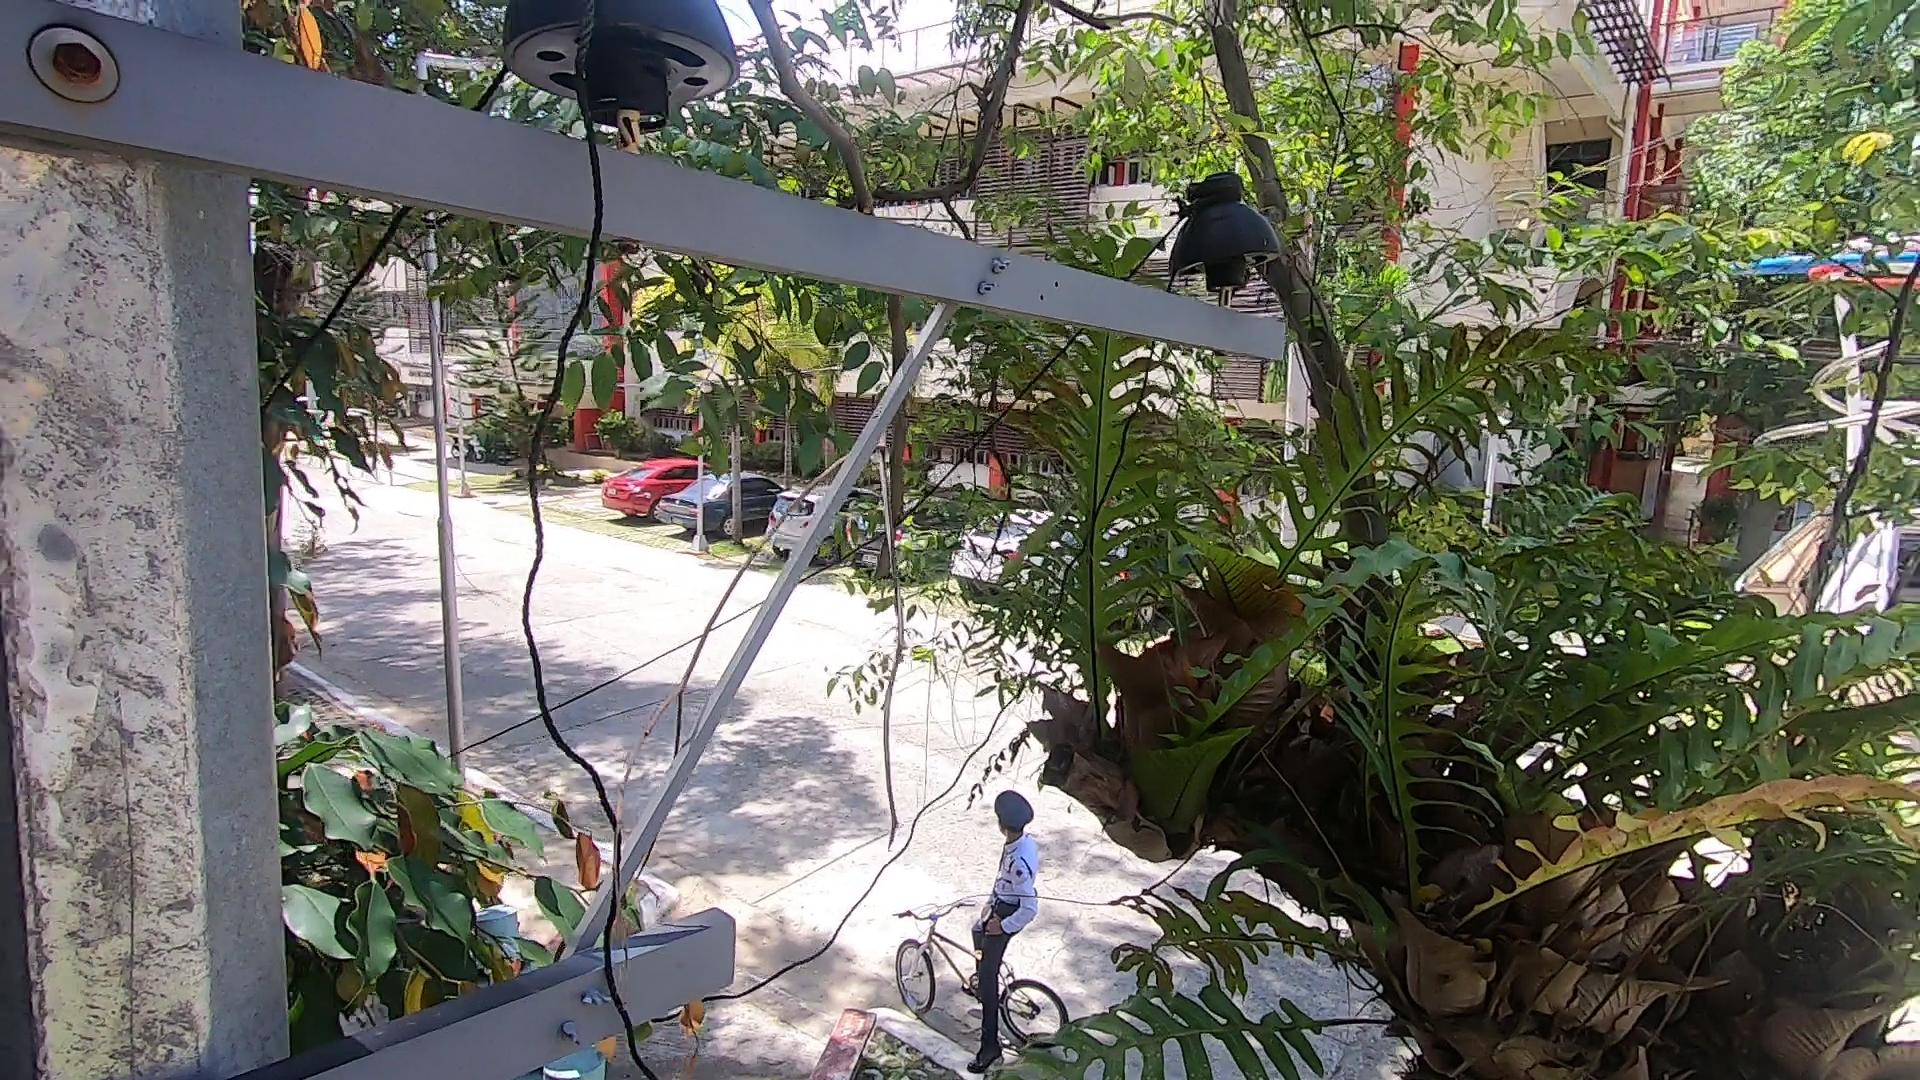tree branch: (741, 7, 931, 568)
